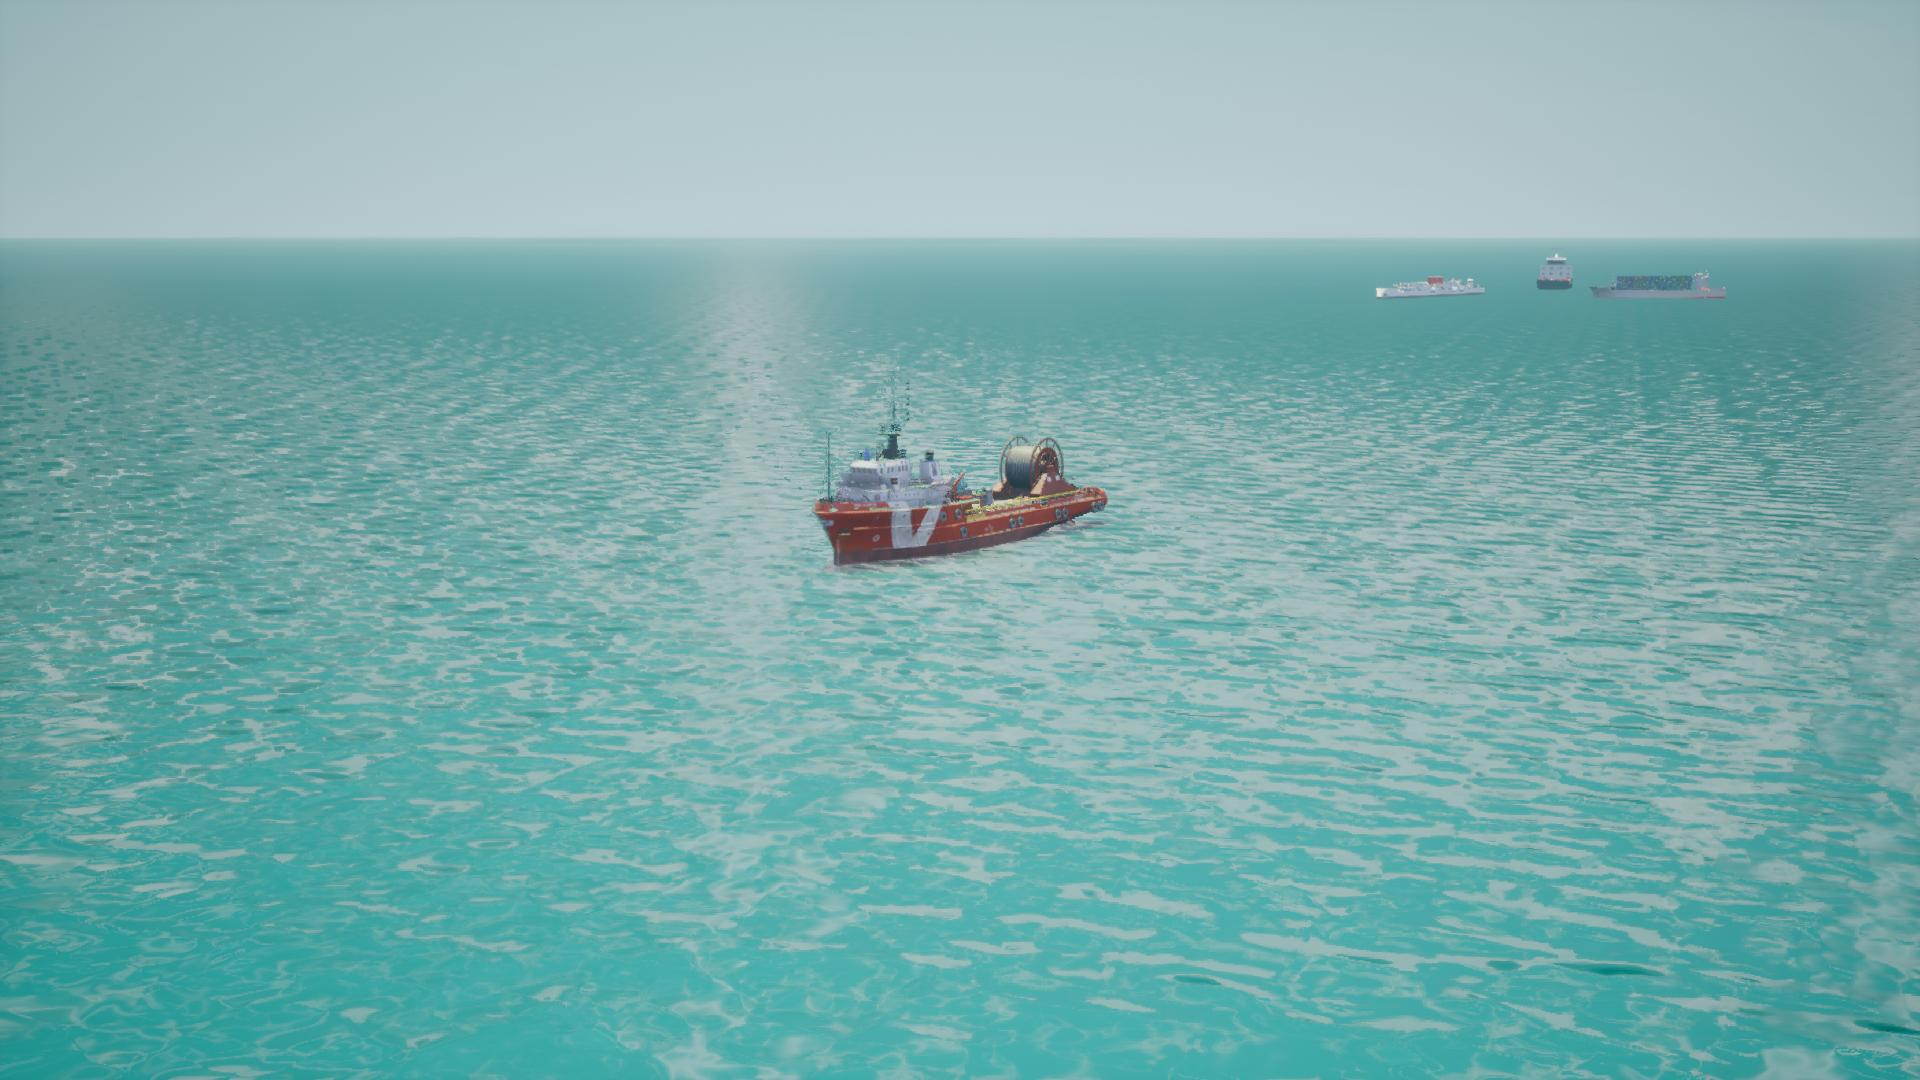Tug Boat: (811, 430, 1101, 568)
